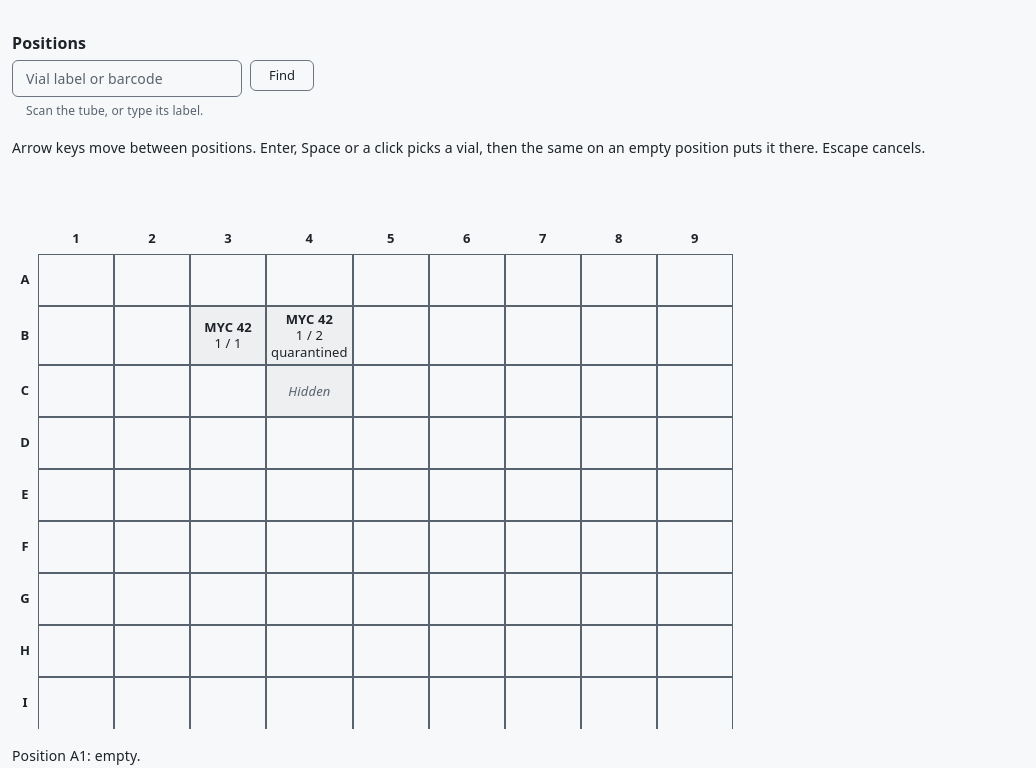
BoxPositions › a masked vial cannot be picked here
Check: the table is shown, box [12, 222, 733, 729]
Click the cell named "C4, occupied, regulated". click: (309, 391)
box: [266, 365, 353, 417]
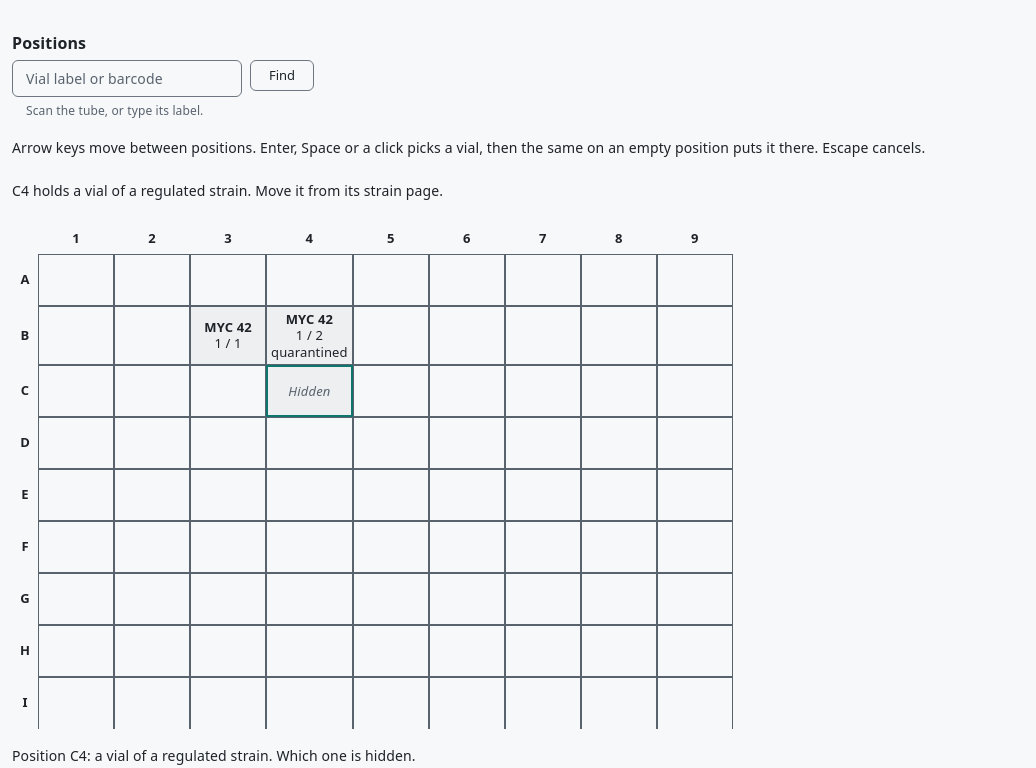
Check: the text "C4 holds a vial of a regulated strain. Move it from its strain page." is shown, box [12, 180, 443, 200]
